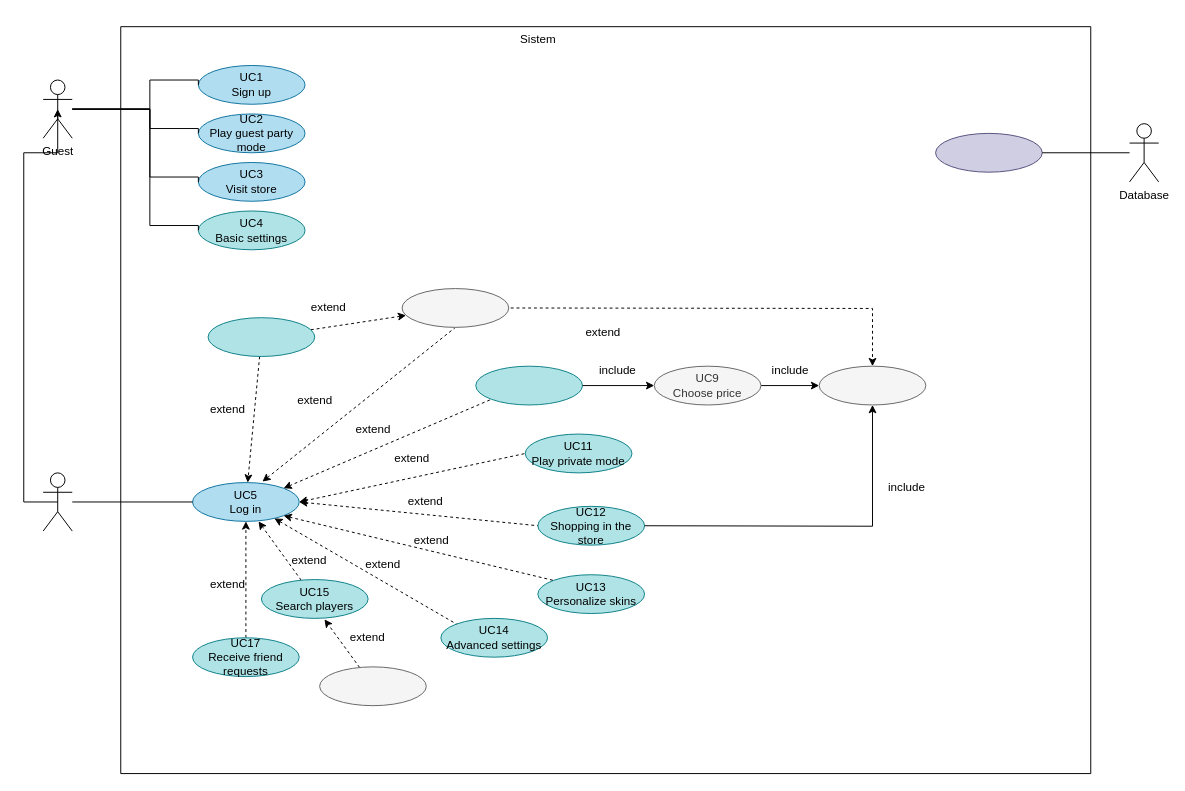
This 1185x791 diagram has some shape labels left out. The centre of each missing label's shape, as x and y in pixels:
UC10 Check tokens: (x=872, y=385)
UC16 Send friend requests: (x=372, y=686)
UC18 Send and receive data: (x=988, y=152)
UC6 Add credit card: (x=261, y=336)
UC7 Buy Tokens: (x=455, y=307)
UC8 Play price mode: (x=528, y=385)
User: (x=57, y=501)
